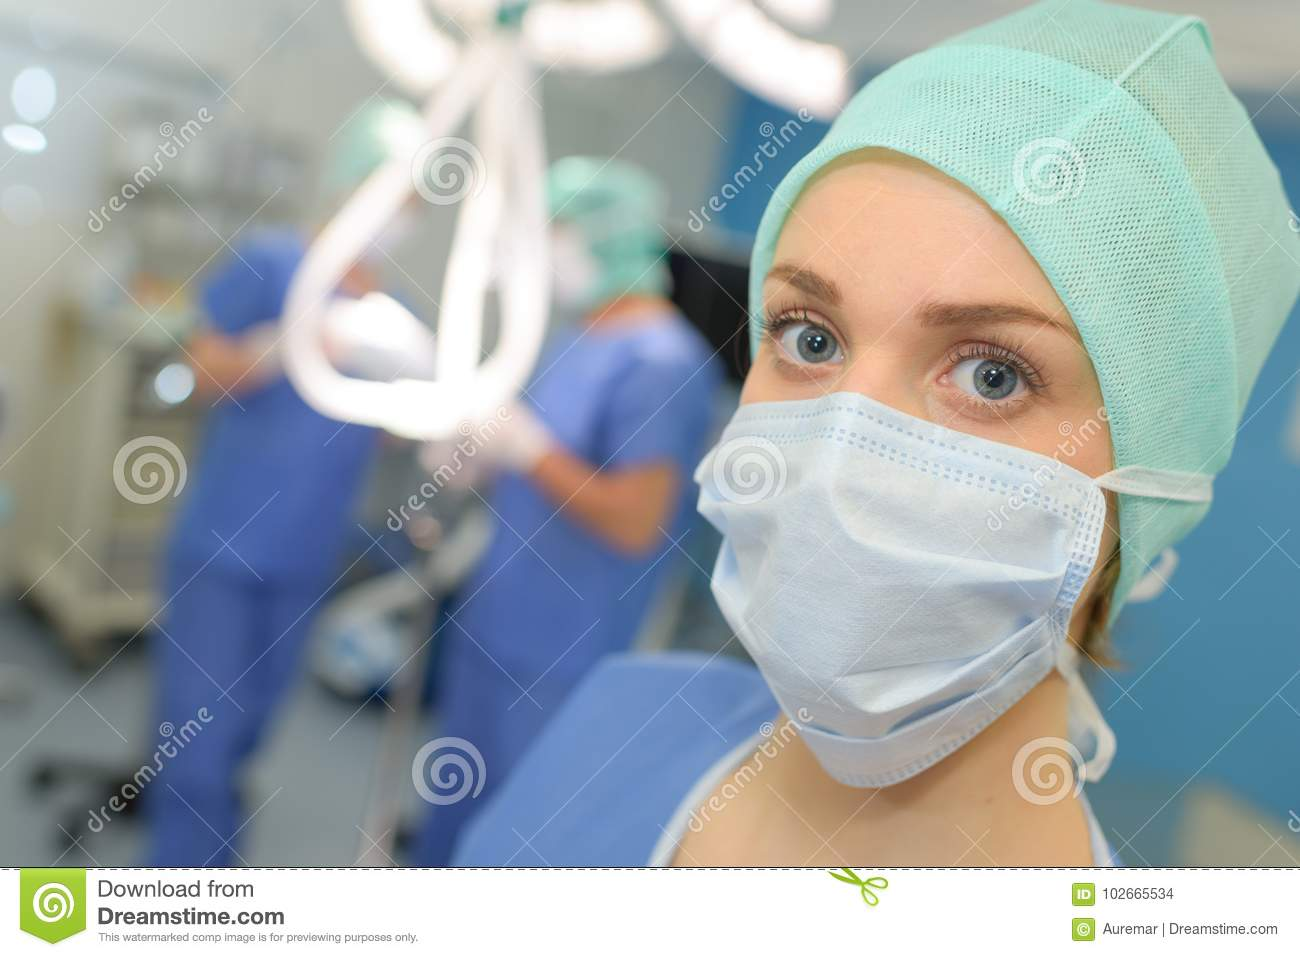mask: (694, 404, 1083, 783)
